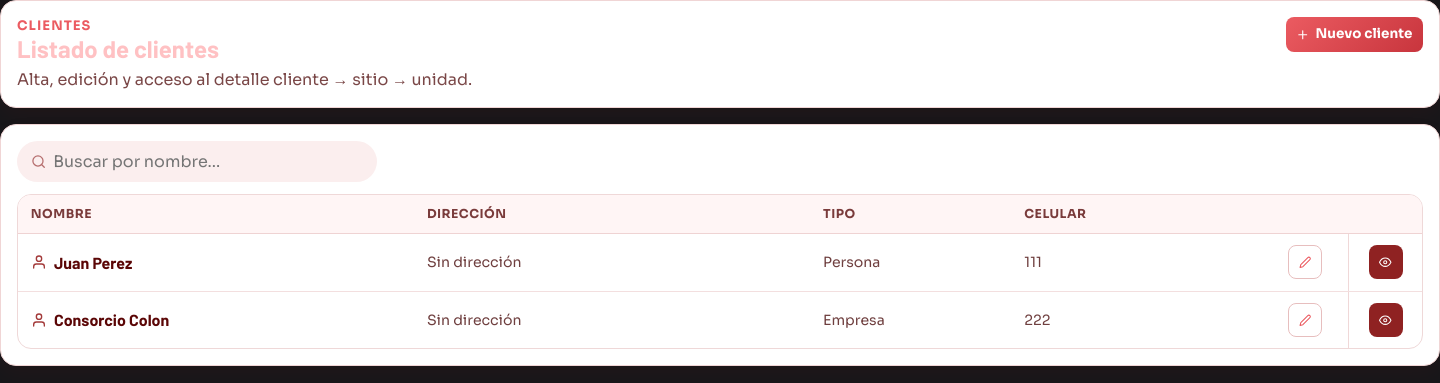
Test: ClientesPage › filtra la lista en memoria por nombre
Expected: the text "Juan Perez" is shown, [31,253,132,272]
Type "colon" into the search field labelled "Buscar por nombre" at (197, 161), box [17,141,377,182]
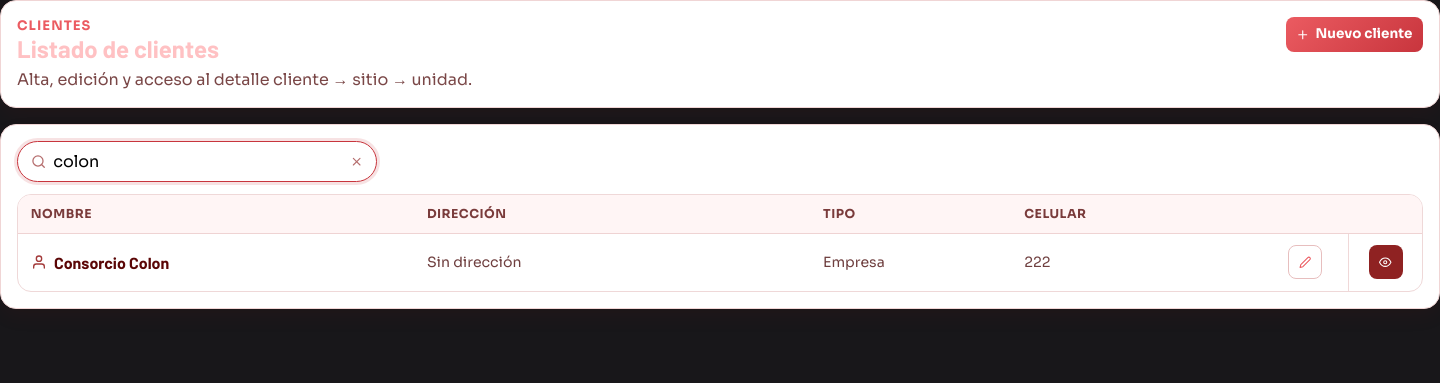
Expected: the text "Consorcio Colon" is shown, [31,253,169,272]
Expected: the text "Juan Perez" is gone
